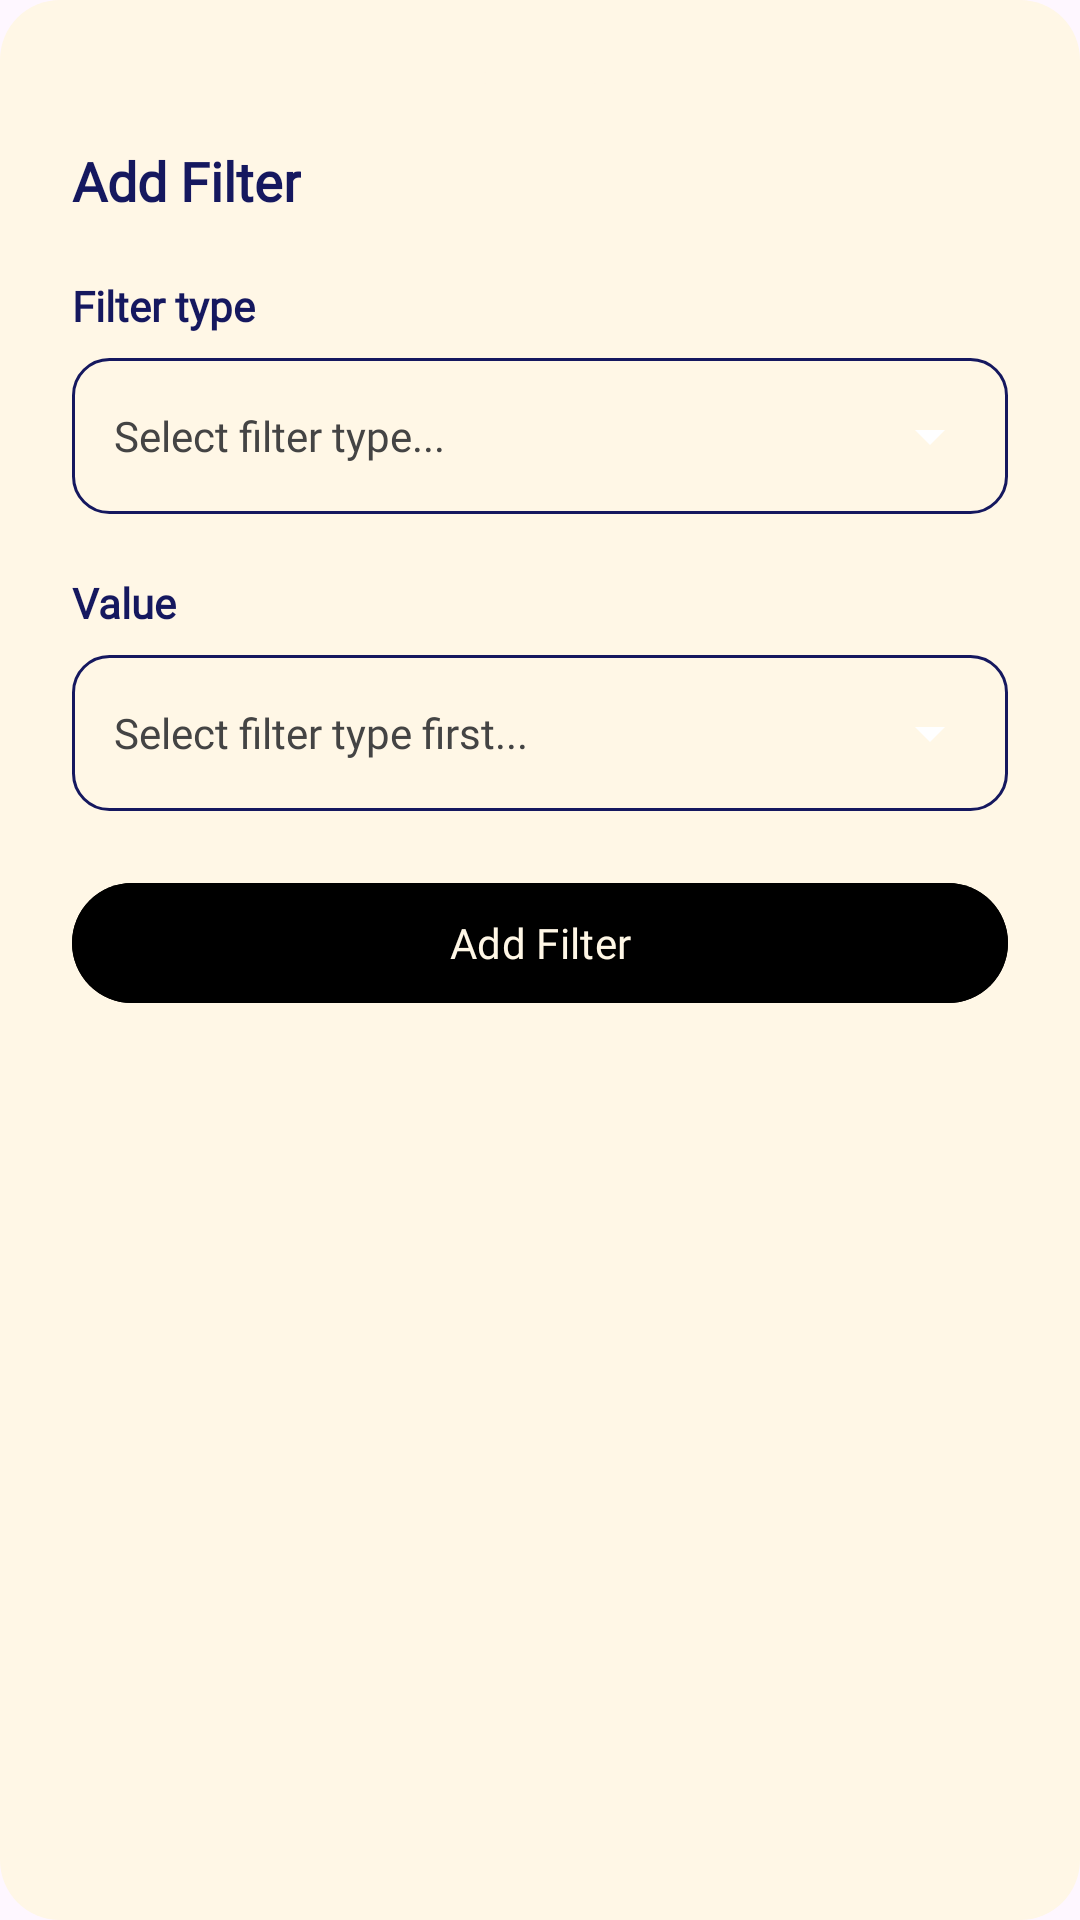

Screen size 1080*1920. Icon name, then its box in pixels as detection(x1, y1, x2, y2):
Dropdown: detection(916, 430, 944, 444), detection(916, 727, 944, 741)
